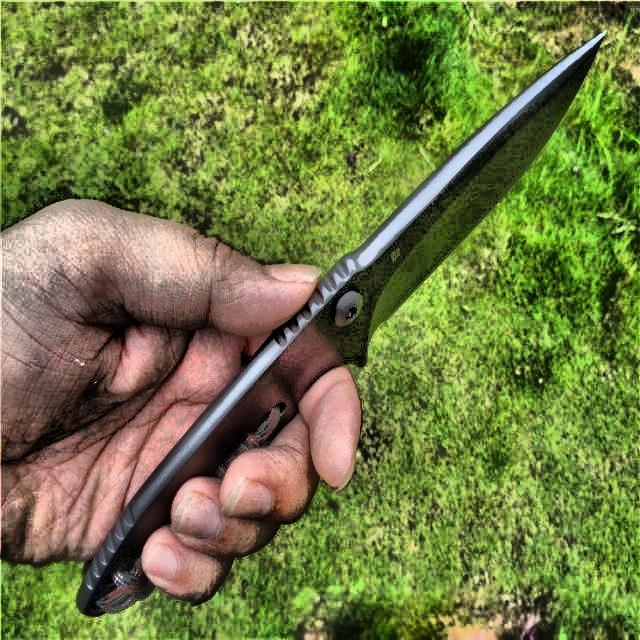knife: (76, 31, 606, 614)
